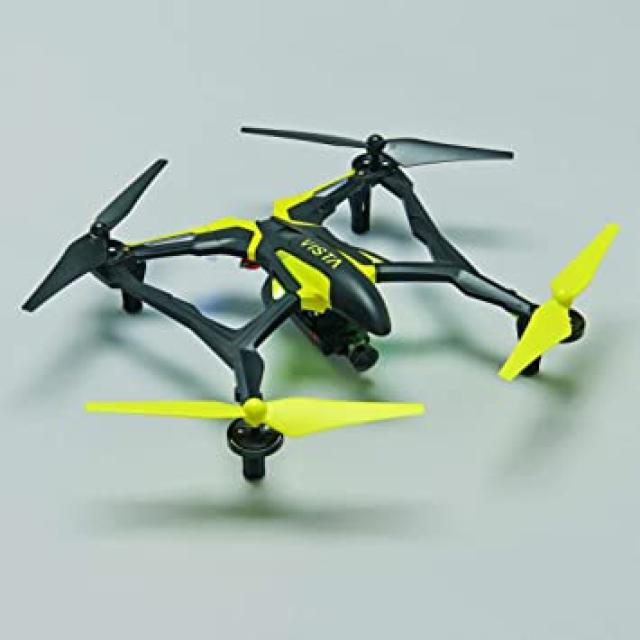drone: (23, 120, 605, 473)
